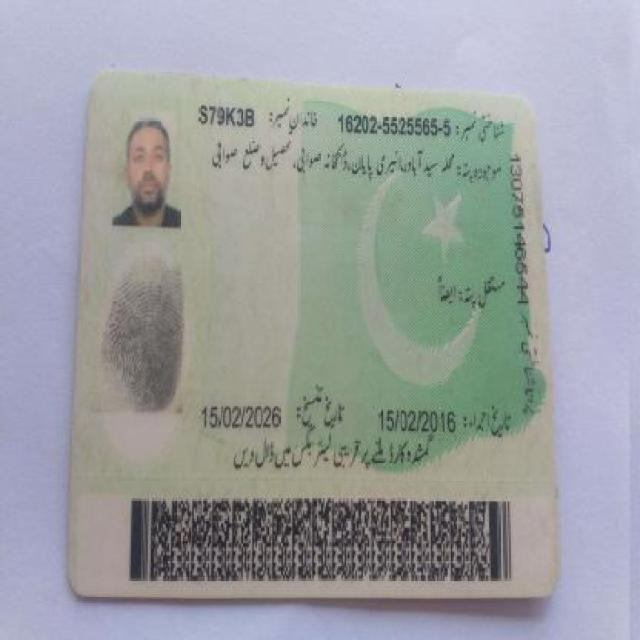Back: (71, 68, 557, 610)
